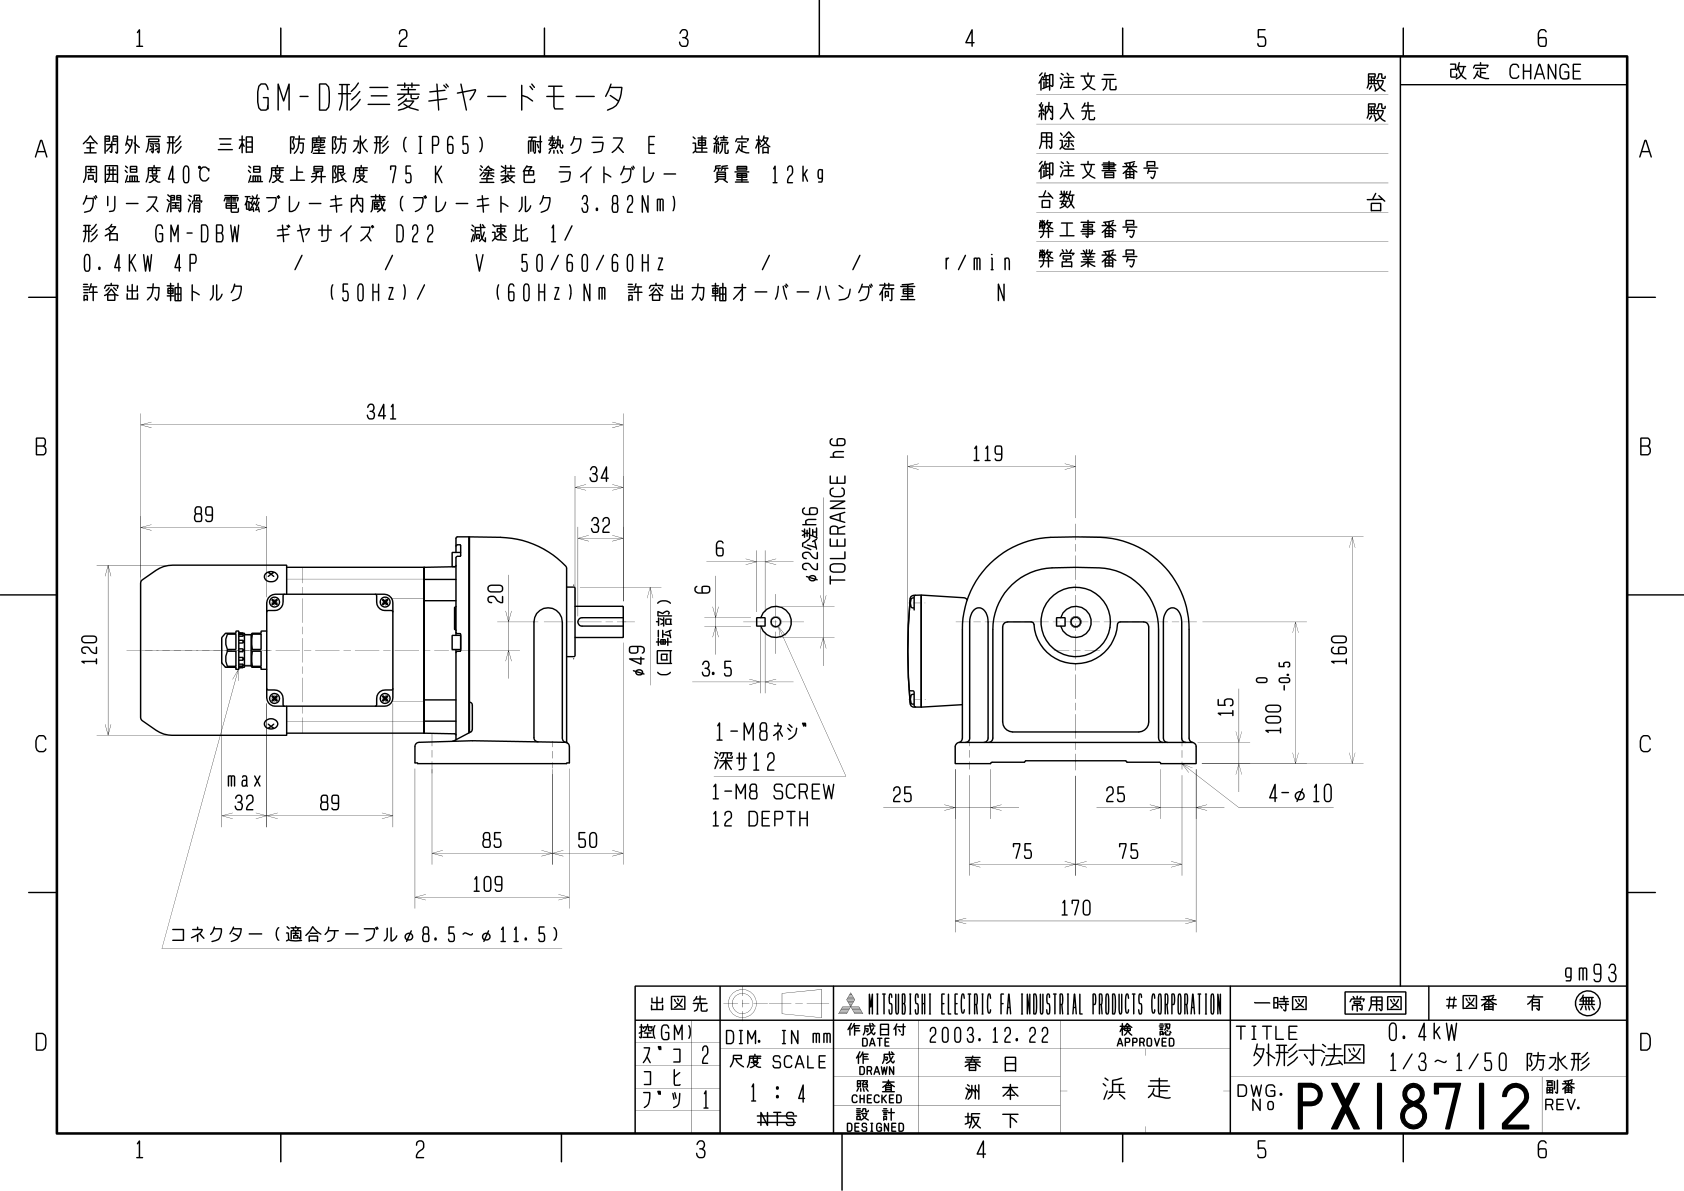GM_D_IP65_三相_脚: (13, 4, 1684, 1191)
